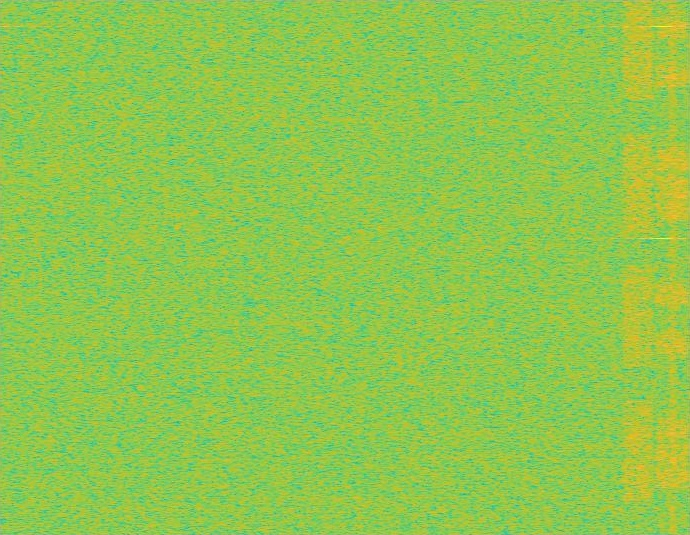5G: (621, 0, 656, 534)
DSSS: (669, 0, 677, 534)
LTE: (656, 0, 689, 534)
Radar: (655, 0, 669, 534)
